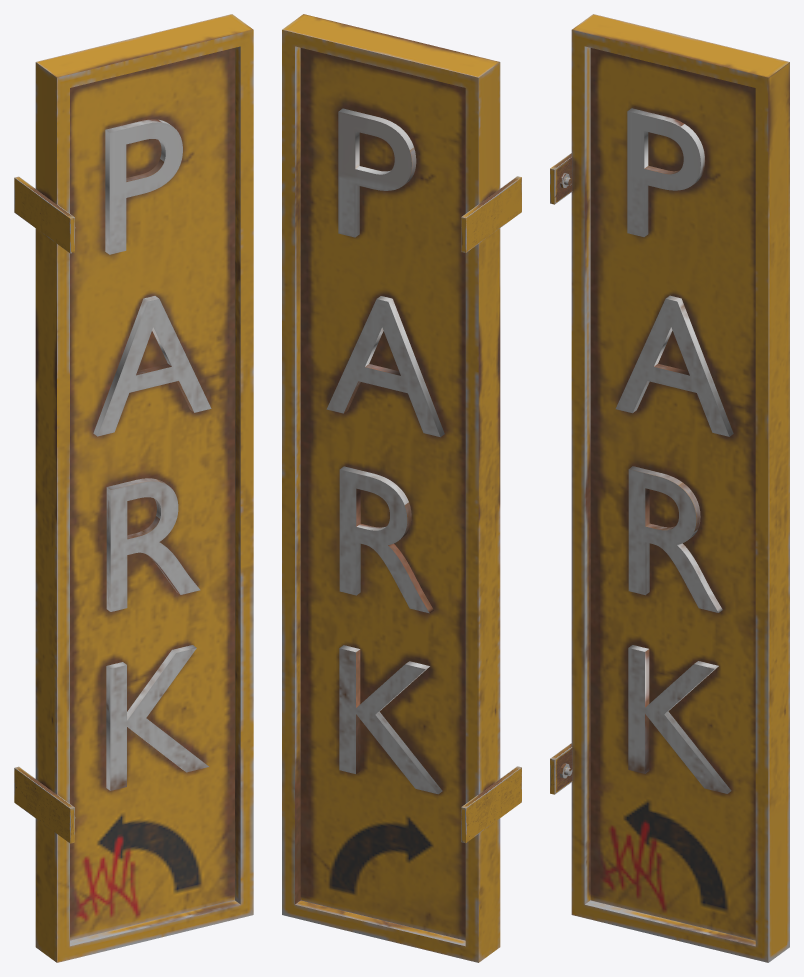
The model's file is parking_sign.glb.
3 views of the same model, side by side, from view 1: azimuth 30°, elevation 25°; view 2: azimuth 150°, elevation 25°; view 3: azimuth 330°, elevation 25° (orthographic).
Visible parts, largest first — view 1: base, text, wall; view 2: base, text, wall; view 3: base, text, wall.
Boxes of the visible parts, x1,y1,x2,y2 form: base: (35, 14, 253, 962); text: (93, 119, 211, 790); wall: (14, 176, 75, 843); base: (282, 14, 500, 962); text: (326, 108, 444, 794); wall: (461, 176, 521, 843); base: (571, 14, 789, 962); text: (615, 108, 733, 793); wall: (550, 153, 572, 794).
Size of the model in its own units: 1.18 by 4.95 by 0.5683.
1 material, 1 textured.
